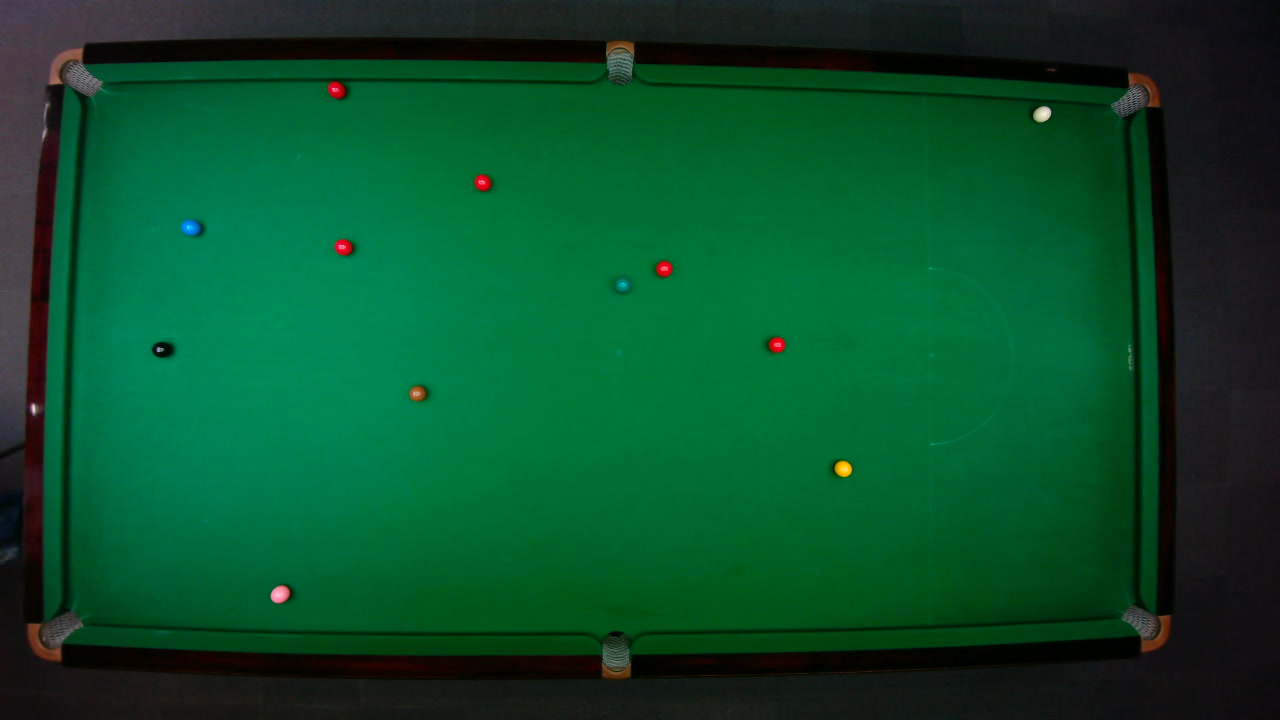bag: (25, 609, 84, 661), (46, 47, 102, 97), (1119, 603, 1171, 651), (1108, 72, 1160, 118), (600, 629, 630, 679), (605, 39, 633, 86)
black: (150, 340, 172, 358)
blue: (179, 218, 201, 236)
brown: (407, 385, 427, 401)
green: (613, 276, 630, 293)
pink: (269, 583, 291, 604)
red: (332, 237, 354, 256), (472, 172, 492, 192), (326, 80, 346, 99), (766, 335, 786, 353), (654, 259, 673, 277)
white: (1031, 104, 1052, 122)
yellow: (832, 458, 852, 477)
zone: (927, 266, 1013, 445)
